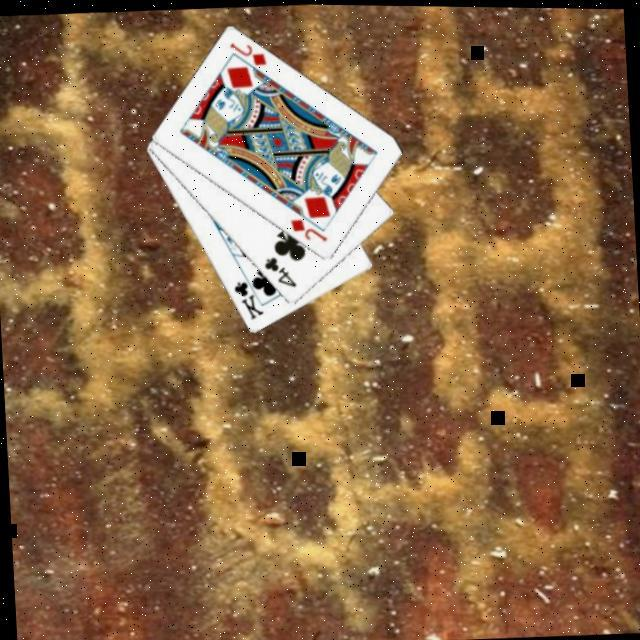4C: (262, 254, 300, 293)
JD: (288, 216, 332, 248), (228, 40, 272, 72)
KC: (230, 270, 268, 324)
